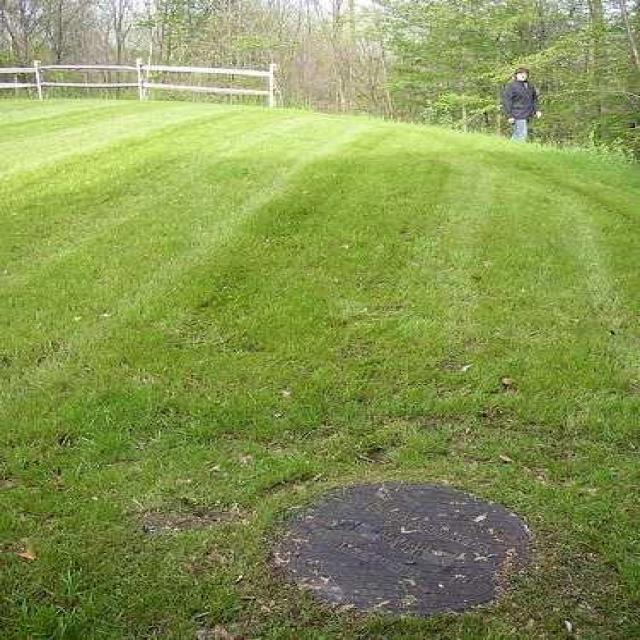manhole: (273, 482, 530, 614)
